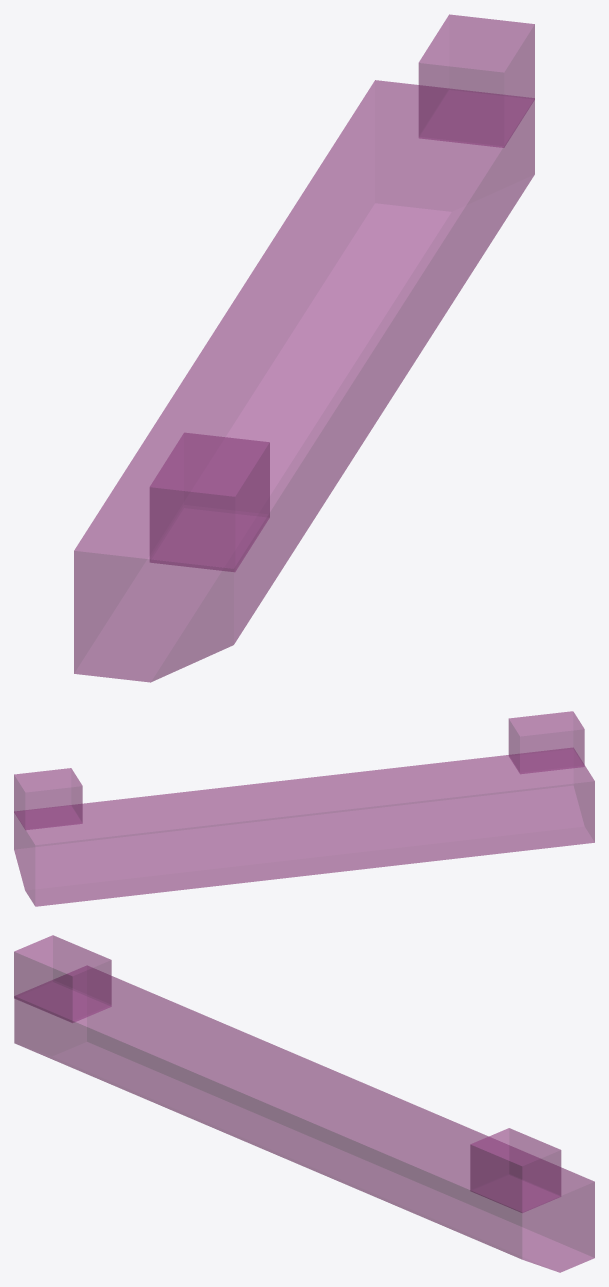
Rendered from SM_Bld_Railing_45_02_Collision.fbx.
3 views of the same model, one above another, from view 1: azimuth 30°, elevation 25°; view 2: azimuth 150°, elevation 25°; view 3: azimuth 270°, elevation 25° (orthographic). The views are drawn at different scales.
Parts seen in each view (by area): view 1: SM_Bld_Railing_45_02_Collision; view 2: SM_Bld_Railing_45_02_Collision; view 3: SM_Bld_Railing_45_02_Collision.
Part boxes in pixels (<box>): SM_Bld_Railing_45_02_Collision: <box>74,14,534,682</box>; SM_Bld_Railing_45_02_Collision: <box>14,711,594,906</box>; SM_Bld_Railing_45_02_Collision: <box>14,935,594,1272</box>.
Size of the model in its own units: 292 by 67.69 by 291.
